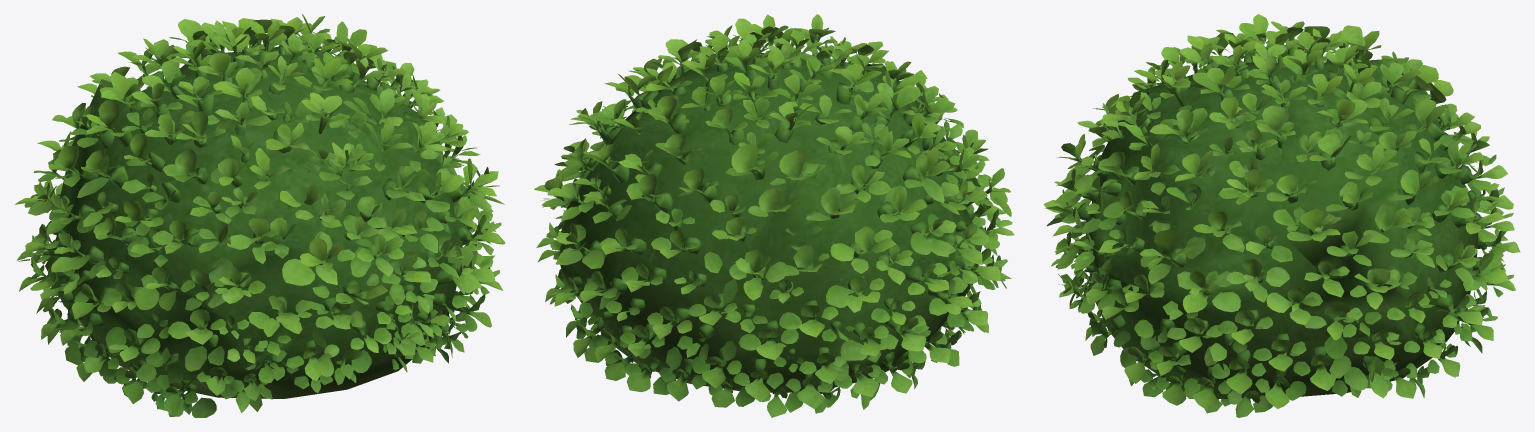
Rendered from bush.glb.
3 renders of one model, left to right at view 1: azimuth 30°, elevation 25°; view 2: azimuth 150°, elevation 25°; view 3: azimuth 270°, elevation 25°, orthographic. The views are drawn at different scales.
Parts seen in each view (by area): view 1: tripo_node_fbc72875-42a3-4540-900f-3cb253610542; view 2: tripo_node_fbc72875-42a3-4540-900f-3cb253610542; view 3: tripo_node_fbc72875-42a3-4540-900f-3cb253610542.
Boxes of the visible parts, box(x1,y1,x2,y2) form: tripo_node_fbc72875-42a3-4540-900f-3cb253610542: box(14, 14, 505, 417); tripo_node_fbc72875-42a3-4540-900f-3cb253610542: box(534, 14, 1014, 417); tripo_node_fbc72875-42a3-4540-900f-3cb253610542: box(1043, 14, 1520, 417).
Bounding box in the file's own units: 0.9995 × 0.6948 × 0.9946.
1 material, 1 textured.
